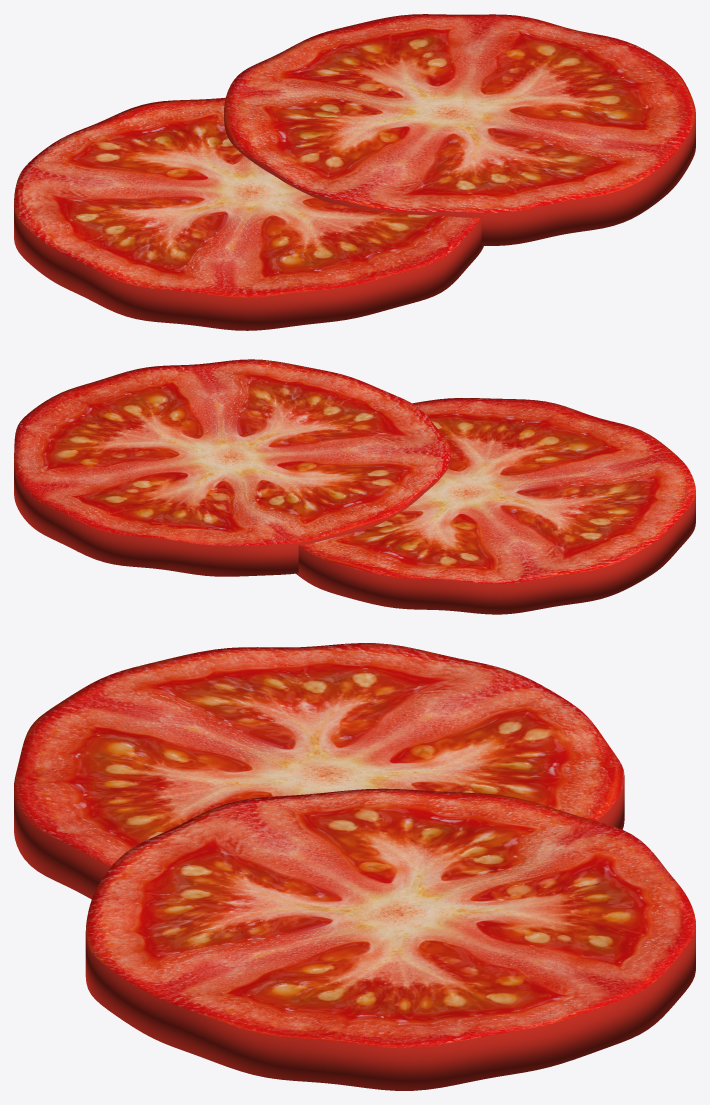
Rendered from tomato.glb.
3 renders of one model, top to bottom at view 1: azimuth 30°, elevation 25°; view 2: azimuth 150°, elevation 25°; view 3: azimuth 270°, elevation 25°, orthographic. The views are drawn at different scales.
Visible parts, largest first — view 1: Tomato slice 2, Tomato slice 1; view 2: Tomato slice 2, Tomato slice 1; view 3: Tomato slice 2, Tomato slice 1.
Boxes of the visible parts, x1,y1,x2,y2 form: Tomato slice 2: (224, 14, 695, 245); Tomato slice 1: (14, 97, 483, 330); Tomato slice 2: (14, 359, 450, 576); Tomato slice 1: (296, 398, 695, 614); Tomato slice 2: (85, 788, 695, 1090); Tomato slice 1: (14, 643, 624, 899).
Size of the model in its own units: 2.35 by 0.1392 by 1.66.
Materials: 2 (1 with a texture image).
